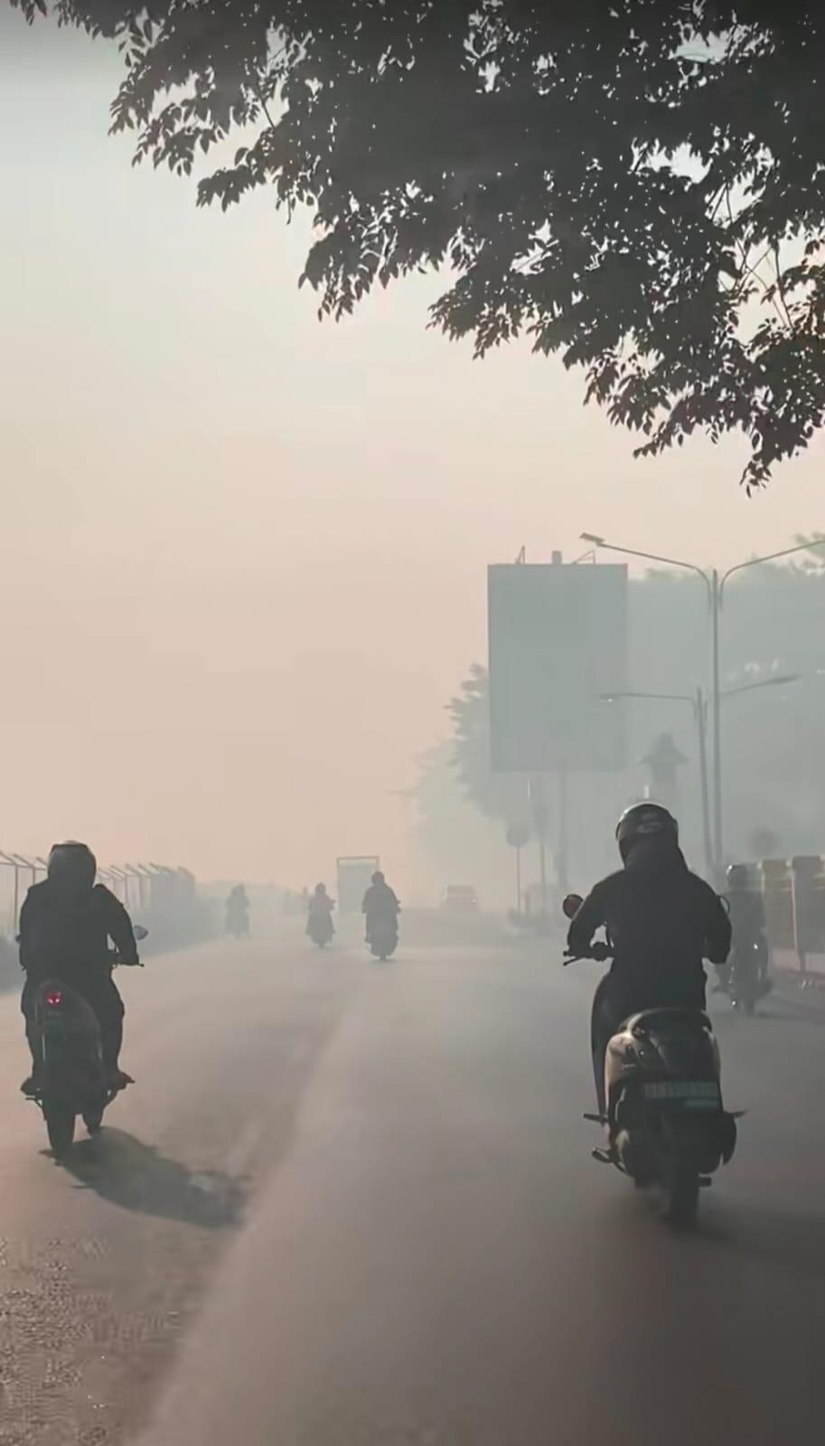Deteksi-Objek-Citra-Berasap: (0, 307, 825, 1003)
Kendaraan: (561, 894, 746, 1231), (17, 925, 148, 1160), (711, 906, 776, 1017), (336, 856, 380, 919), (363, 911, 401, 962), (441, 884, 480, 919), (305, 911, 336, 953)
Manusia: (562, 800, 733, 1143), (16, 840, 141, 1101), (721, 861, 768, 992), (361, 869, 401, 945), (305, 883, 337, 934), (226, 883, 251, 935)
Vegetasi: (0, 0, 825, 499)
